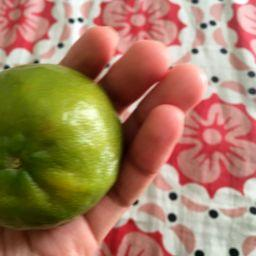Unripe: (1, 63, 120, 229)
